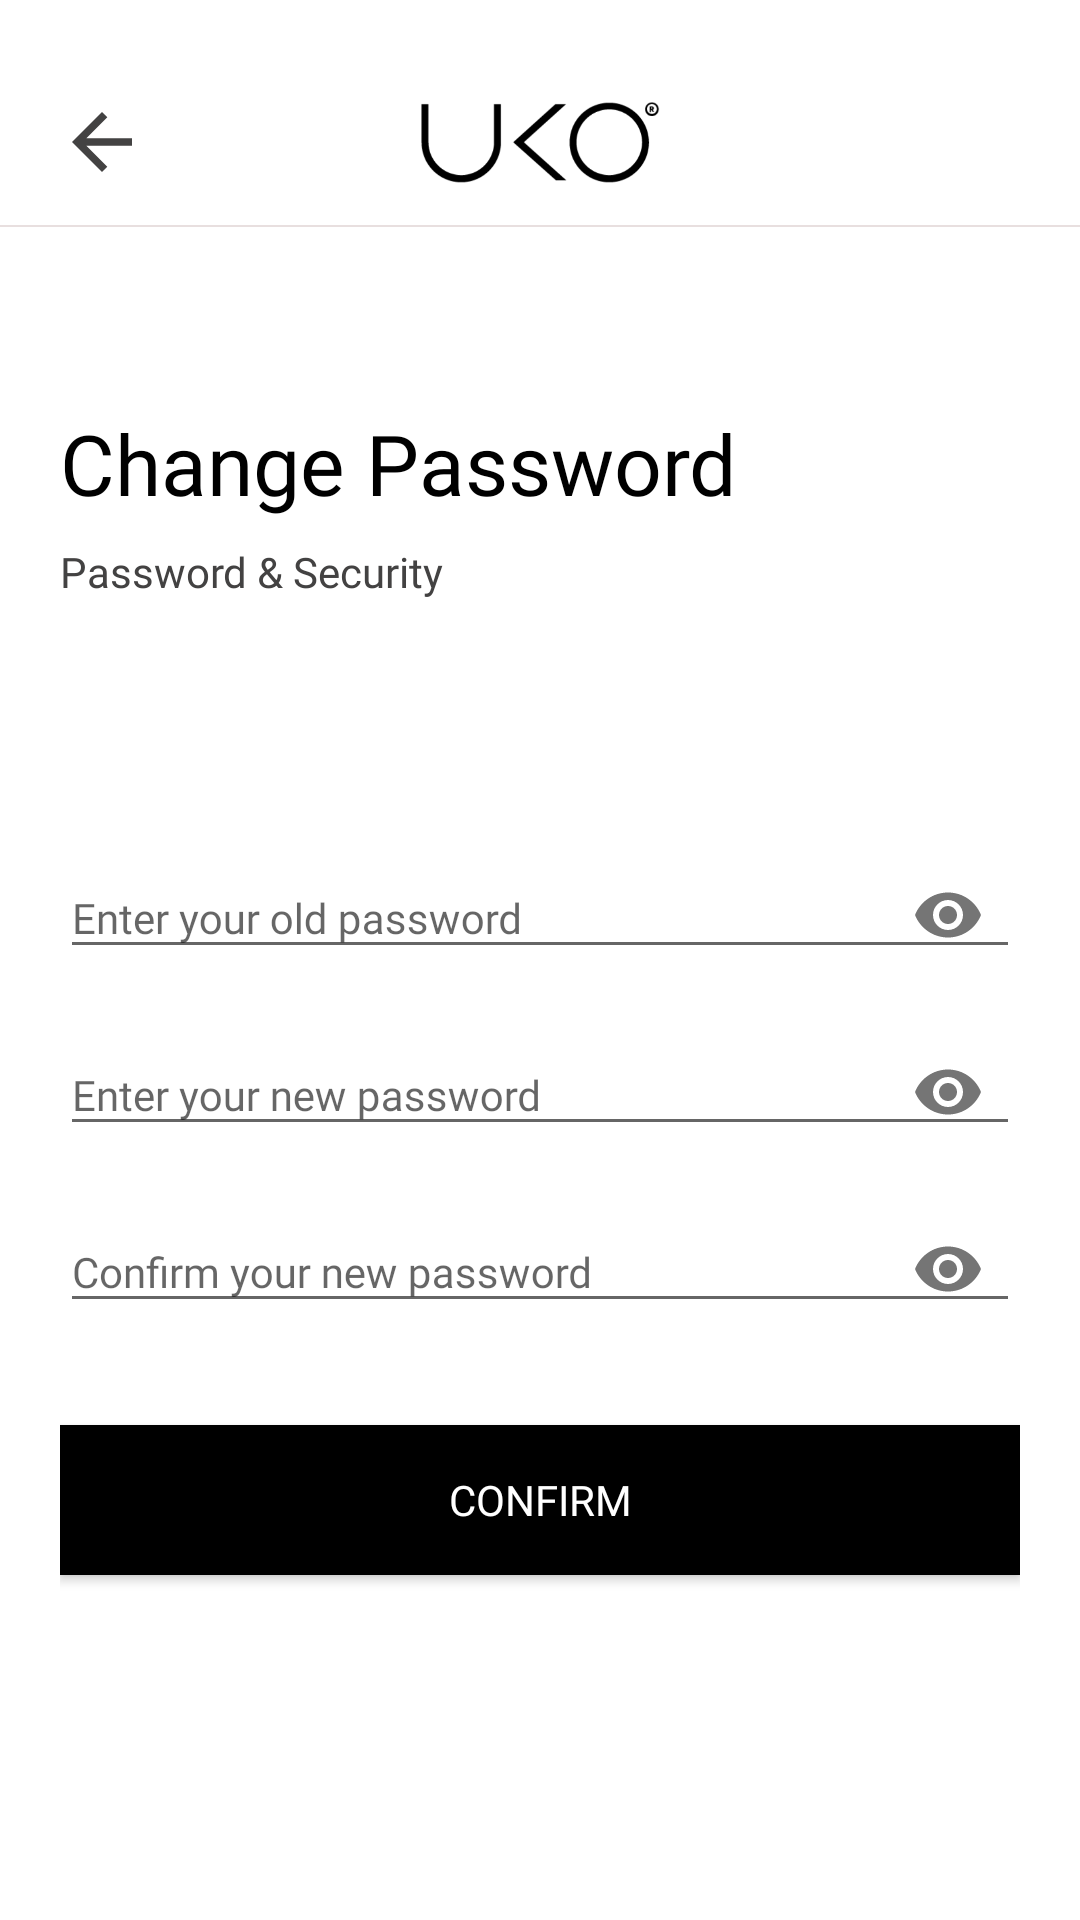

Point at icon controls on the screen. Image size 1080w x 1920h, points as [x,y].
arrow back: [102,142]
